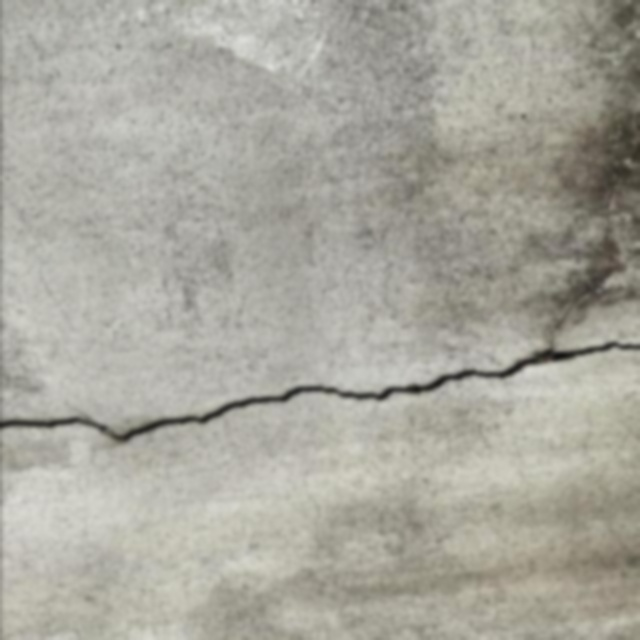SurfaceCrack: (0, 299, 638, 476)
